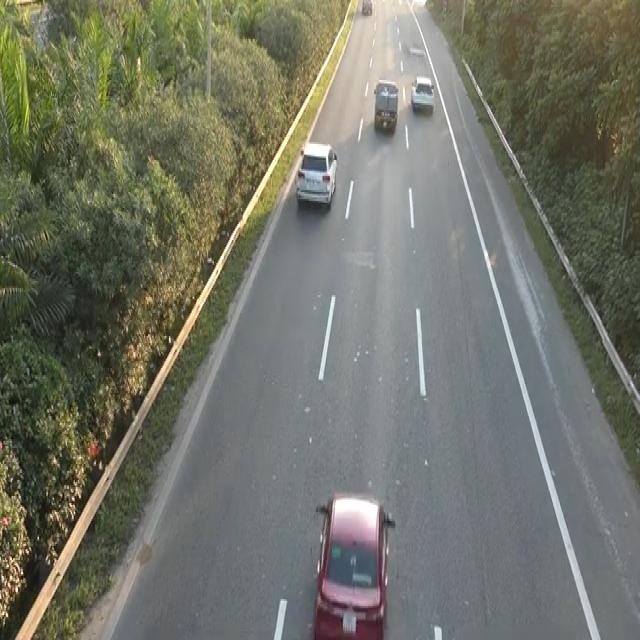bus: (311, 487, 398, 638)
car: (294, 137, 338, 208), (409, 73, 435, 114)
minivan: (371, 75, 400, 133)
